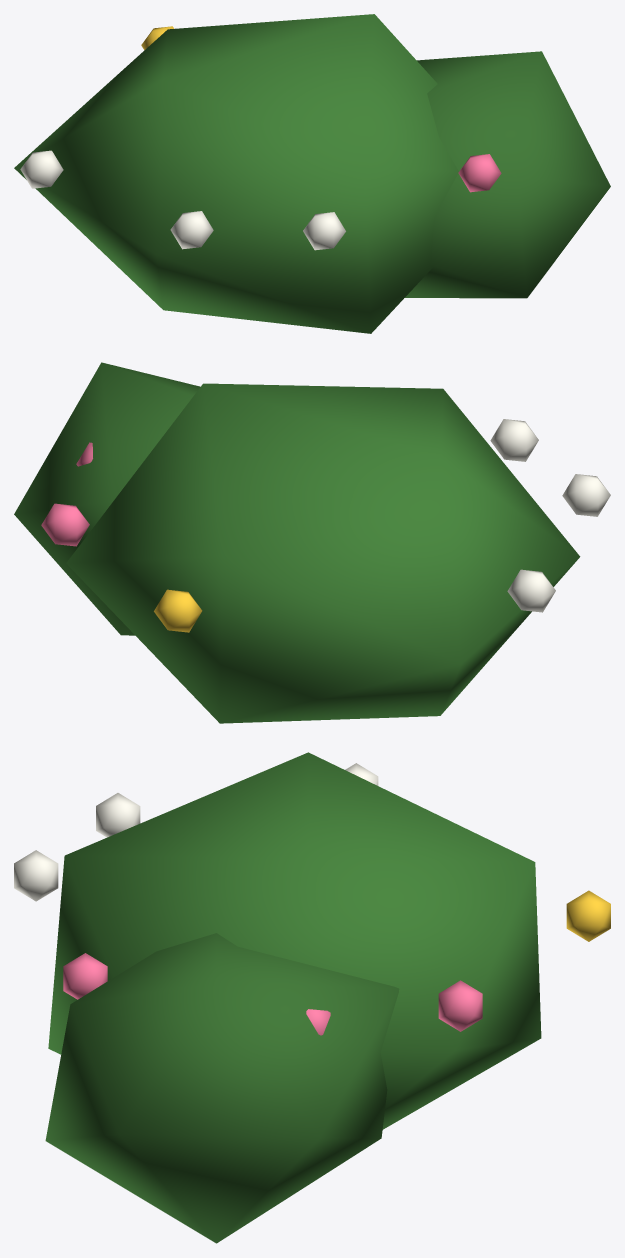
File: Bush3.glb
3 views of the same model, one above another, from view 1: azimuth 30°, elevation 25°; view 2: azimuth 150°, elevation 25°; view 3: azimuth 270°, elevation 25° (orthographic). The views are drawn at different scales.
Visible parts, largest first — view 1: Bush3; view 2: Bush3; view 3: Bush3.
Part boxes in pixels (x1,y1,x2,y2): Bush3: (14,14,610,333); Bush3: (14,362,610,723); Bush3: (14,752,610,1243).
Size of the model in its own units: 2.23 by 1.13 by 1.95.
